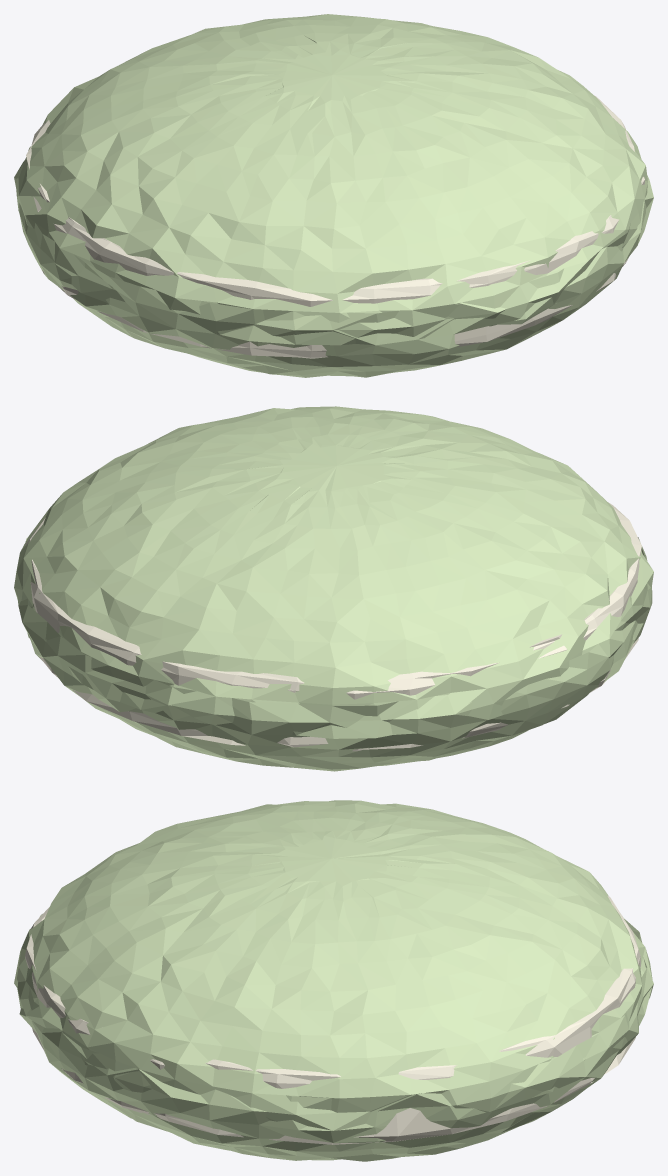
The model's file is macaron.glb.
3 views of the same model, one above another, from view 1: azimuth 30°, elevation 25°; view 2: azimuth 150°, elevation 25°; view 3: azimuth 270°, elevation 25° (orthographic).
Visible parts, largest first — view 1: macaron; view 2: macaron; view 3: macaron.
Boxes of the visible parts, x1=… form: macaron: x1=14, y1=14, x2=653, y2=377; macaron: x1=14, y1=406, x2=653, y2=771; macaron: x1=14, y1=800, x2=653, y2=1161.
Bounding box in the file's own units: 4.34 × 1.84 × 4.38.
